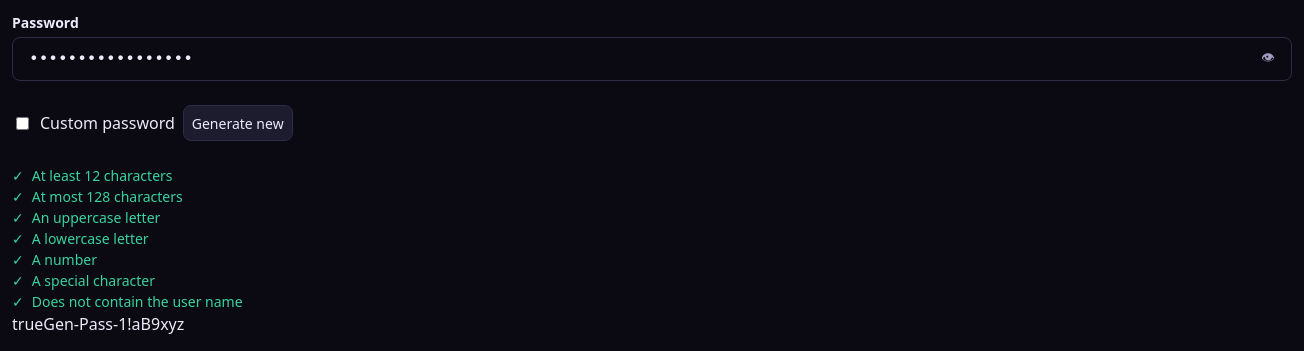
Scenario: PasswordField › the reveal control has no focus, an accessible name and a state (PWD-034)
expect the element with test id "value" does not show "": met
Step 1. Click the button named "Show password" → (1268,59), box [1248, 41, 1288, 77]
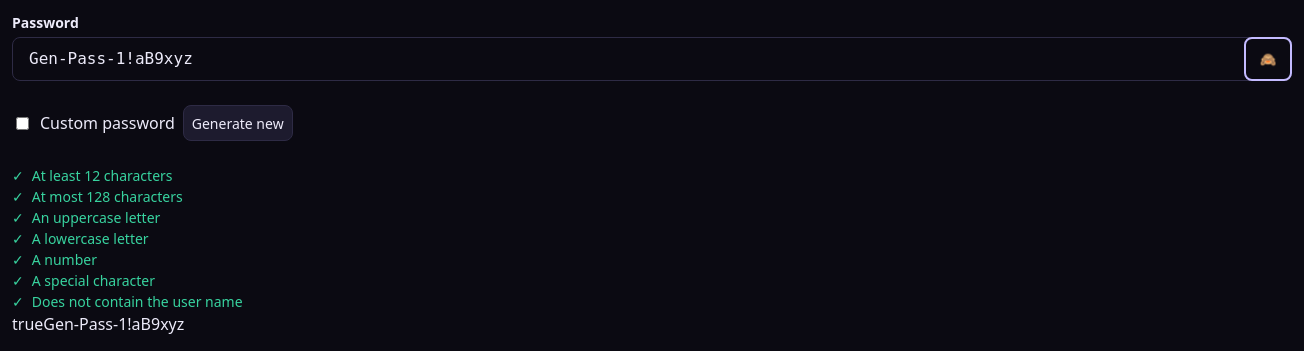
expect the field labelled "Password" shows its text: met, box [12, 37, 1292, 81]
